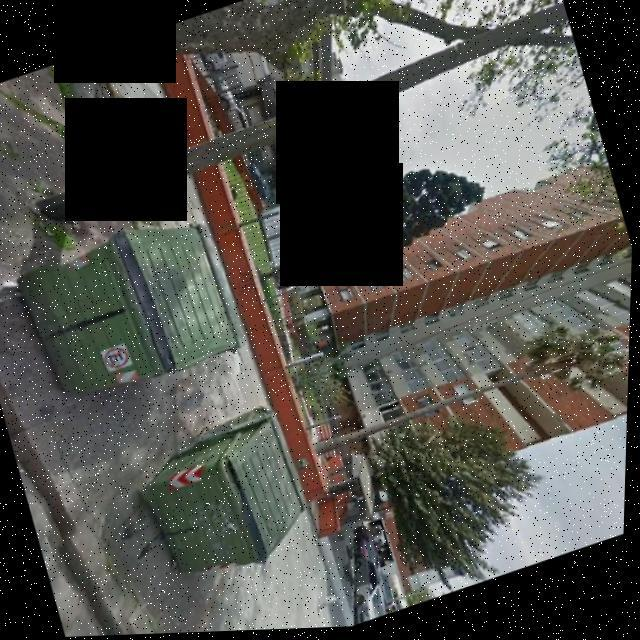bin: (3, 191, 262, 428), (109, 390, 336, 614)
